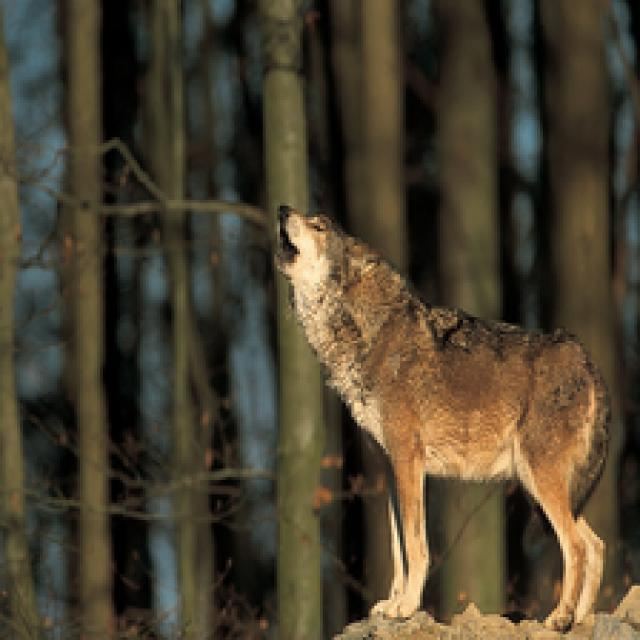wolf: (244, 164, 617, 640)
